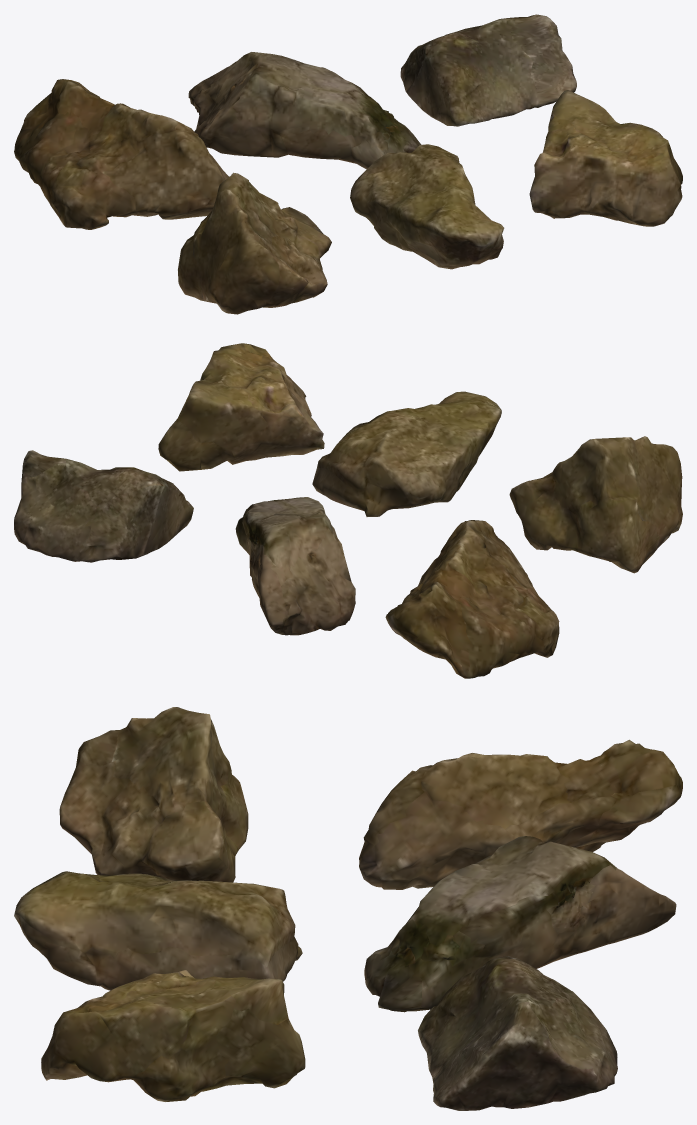
File: rock_moss_set_01.glb
The picture shows the model from 3 angles, top to bottom: view 1: azimuth 30°, elevation 25°; view 2: azimuth 150°, elevation 25°; view 3: azimuth 270°, elevation 25°; orthographic projection. The views are drawn at different scales.
Parts seen in each view (by area): view 1: rock_moss_set_01_rock01; view 2: rock_moss_set_01_rock01; view 3: rock_moss_set_01_rock01.
Part boxes in pixels (x1=…): rock_moss_set_01_rock01: x1=14, y1=14, x2=682, y2=314; rock_moss_set_01_rock01: x1=14, y1=343, x2=682, y2=678; rock_moss_set_01_rock01: x1=14, y1=707, x2=682, y2=1110.
Bounding box in the file's own units: 8 × 1.76 × 6.94.
Materials: 1 (1 with a texture image).
